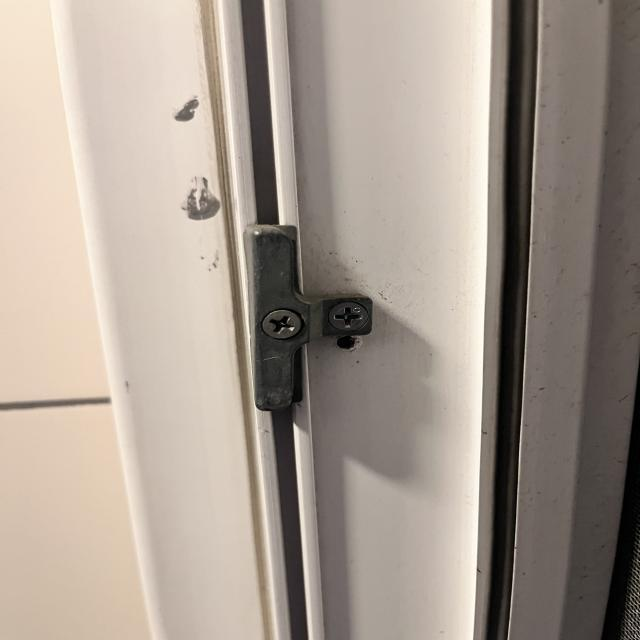phillips: (328, 302, 370, 332), (262, 310, 302, 340)
